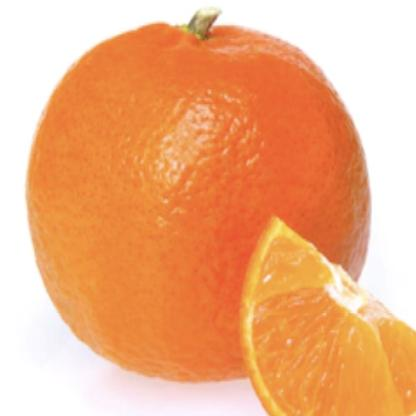fresh: (23, 19, 374, 384)
